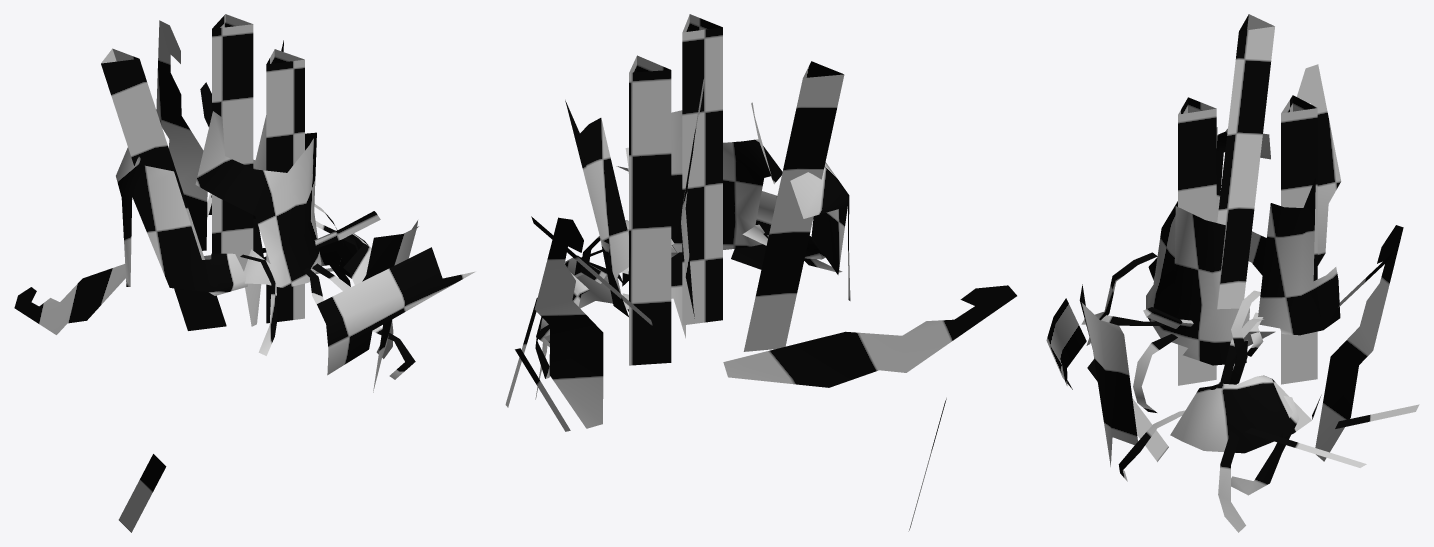
The model's file is destroyed_module.obj.
3 views of the same model, side by side, from view 1: azimuth 30°, elevation 25°; view 2: azimuth 150°, elevation 25°; view 3: azimuth 270°, elevation 25° (orthographic). The views are drawn at different scales.
Parts seen in each view (by area): view 1: cbs_module_destroyed; view 2: cbs_module_destroyed; view 3: cbs_module_destroyed.
Boxes of the visible parts, bbox=[...] form: cbs_module_destroyed: bbox=[14, 14, 475, 532]; cbs_module_destroyed: bbox=[505, 14, 1016, 531]; cbs_module_destroyed: bbox=[1046, 14, 1419, 532].
Bounding box in the file's own units: 227 × 230 × 171.
Materials: 1 (1 with a texture image).
